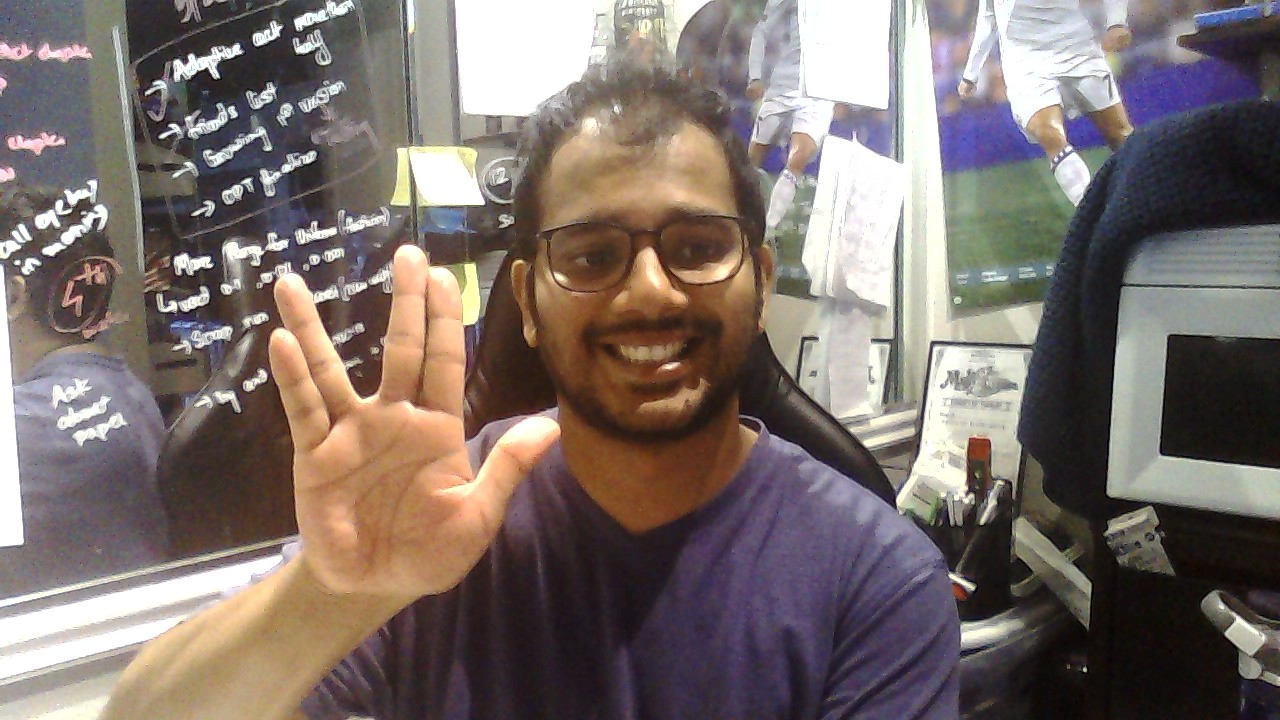LiveLong: (266, 243, 562, 594)
